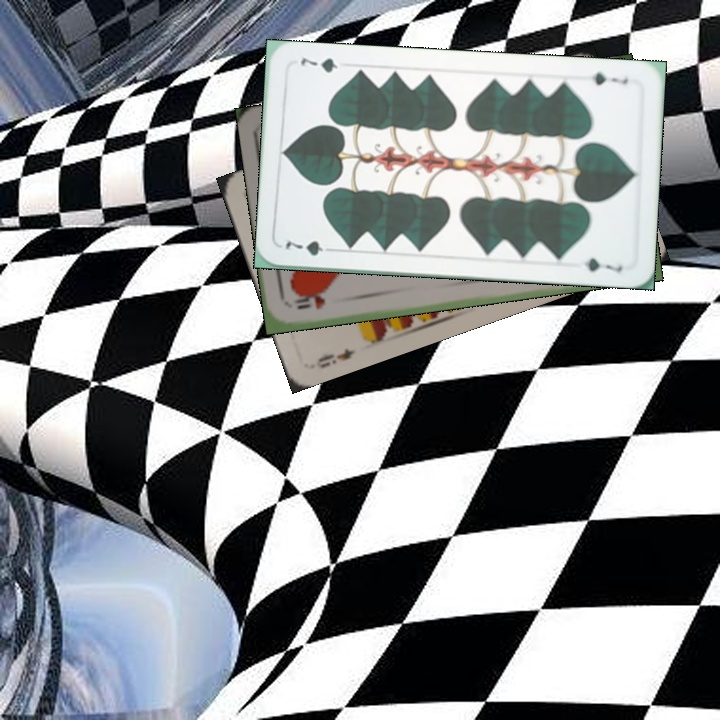E9: (312, 344, 358, 371)
G7: (280, 236, 339, 258), (588, 68, 631, 88)
HO: (289, 291, 328, 312)
